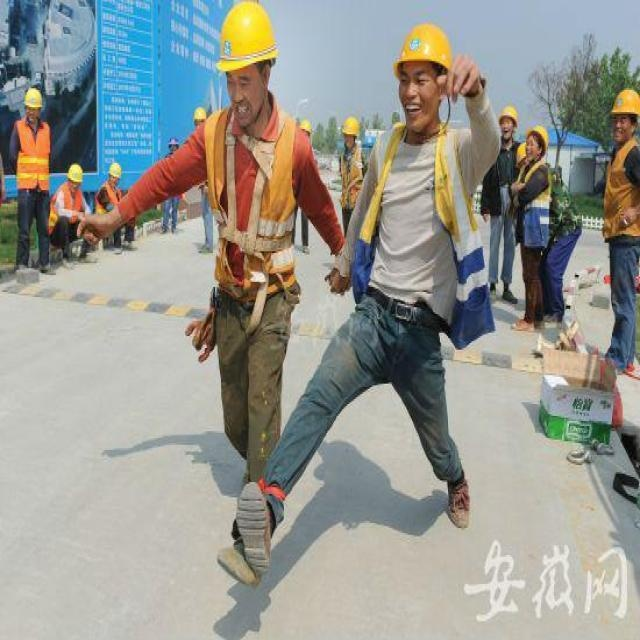Arnes_seguridad: (208, 106, 292, 257)
